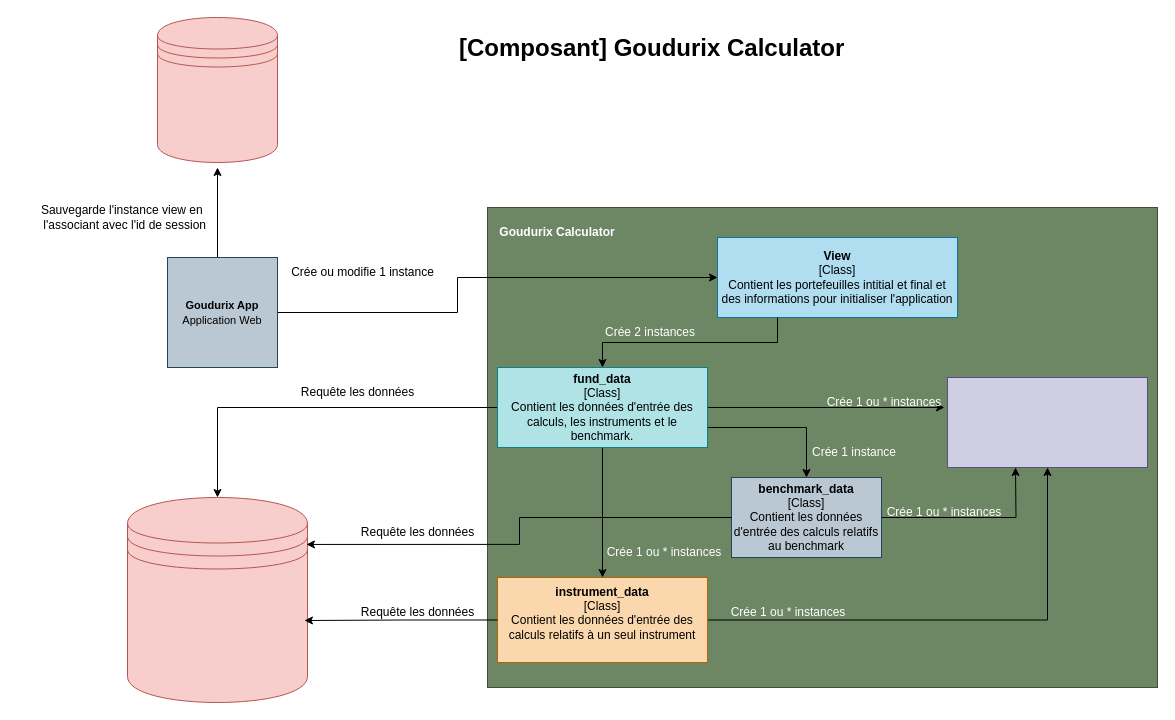
This 1175x720 diagram has some shape labels left out. Here are the shapes that lost their labels. From the top down, the centre of each, then its label:
At [217,89]: "views_database [Dictionnaire Python]".
At [1047,422]: "metrics [Class] Contient l'ensemble des métriques auxquels on s'intérésse".
At [217,599]: "Reflix [Base de données]".
